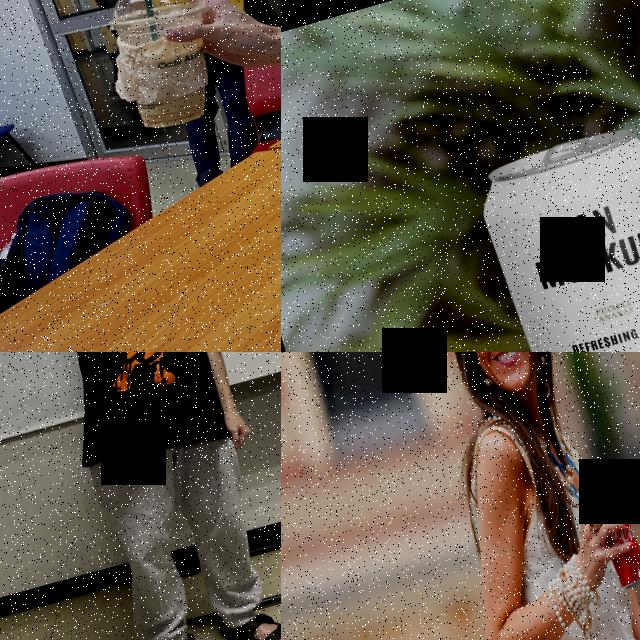can: (468, 116, 640, 352), (582, 469, 640, 592)
cup: (99, 0, 236, 136)
